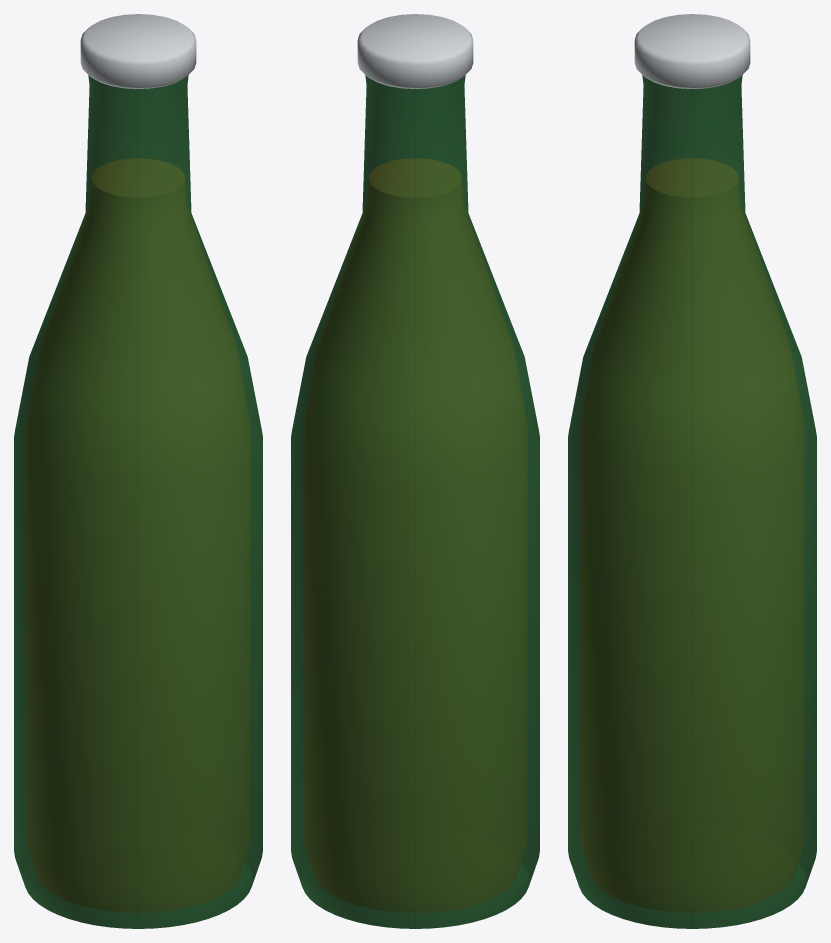
File: longneck-vidro_verde.glb
3 renders of one model, left to right at view 1: azimuth 30°, elevation 25°; view 2: azimuth 150°, elevation 25°; view 3: azimuth 270°, elevation 25°, orthographic.
Parts seen in each view (by area): view 1: longneck-vidro_verde; view 2: longneck-vidro_verde; view 3: longneck-vidro_verde.
Part boxes in pixels (x1=…): longneck-vidro_verde: x1=14, y1=14, x2=262, y2=928; longneck-vidro_verde: x1=291, y1=14, x2=539, y2=928; longneck-vidro_verde: x1=568, y1=14, x2=816, y2=928.
Size of the model in its own units: 0.061 by 0.2282 by 0.061.
